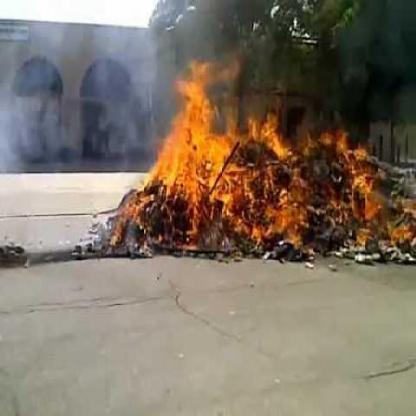fire: (80, 42, 411, 272)
